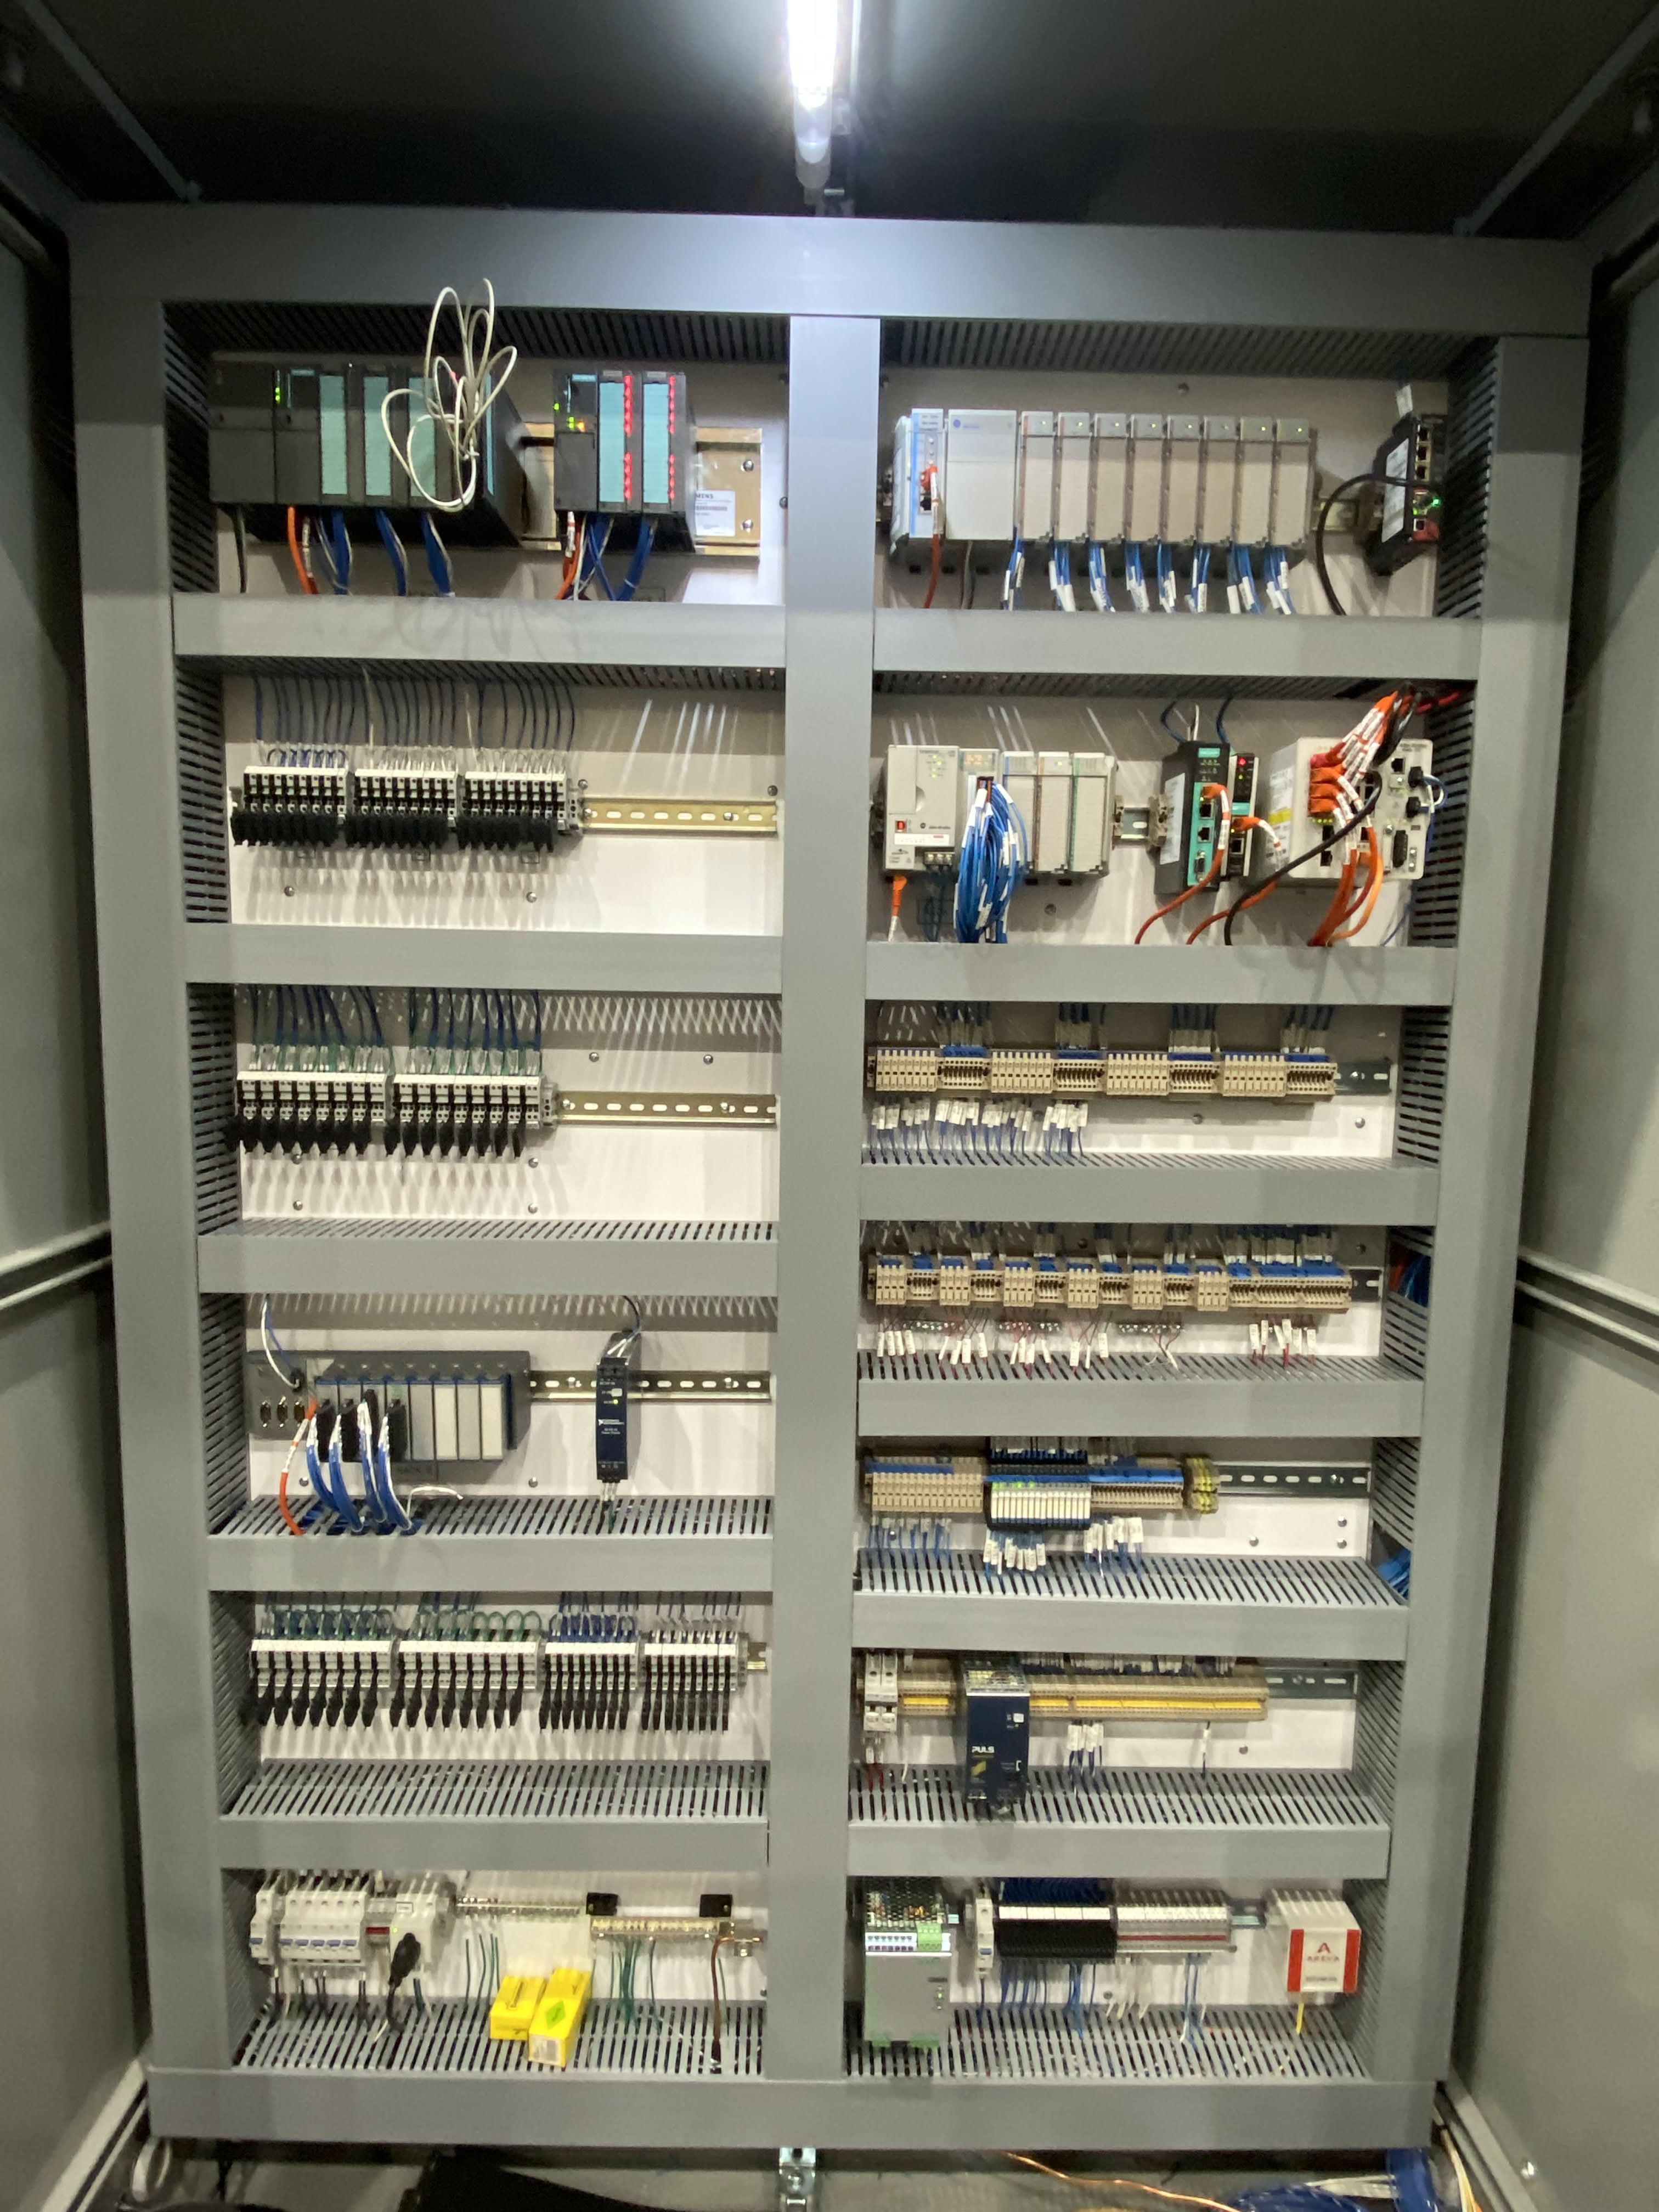AllenBradley: (880, 742, 958, 874)
Siemens: (268, 357, 326, 514)
